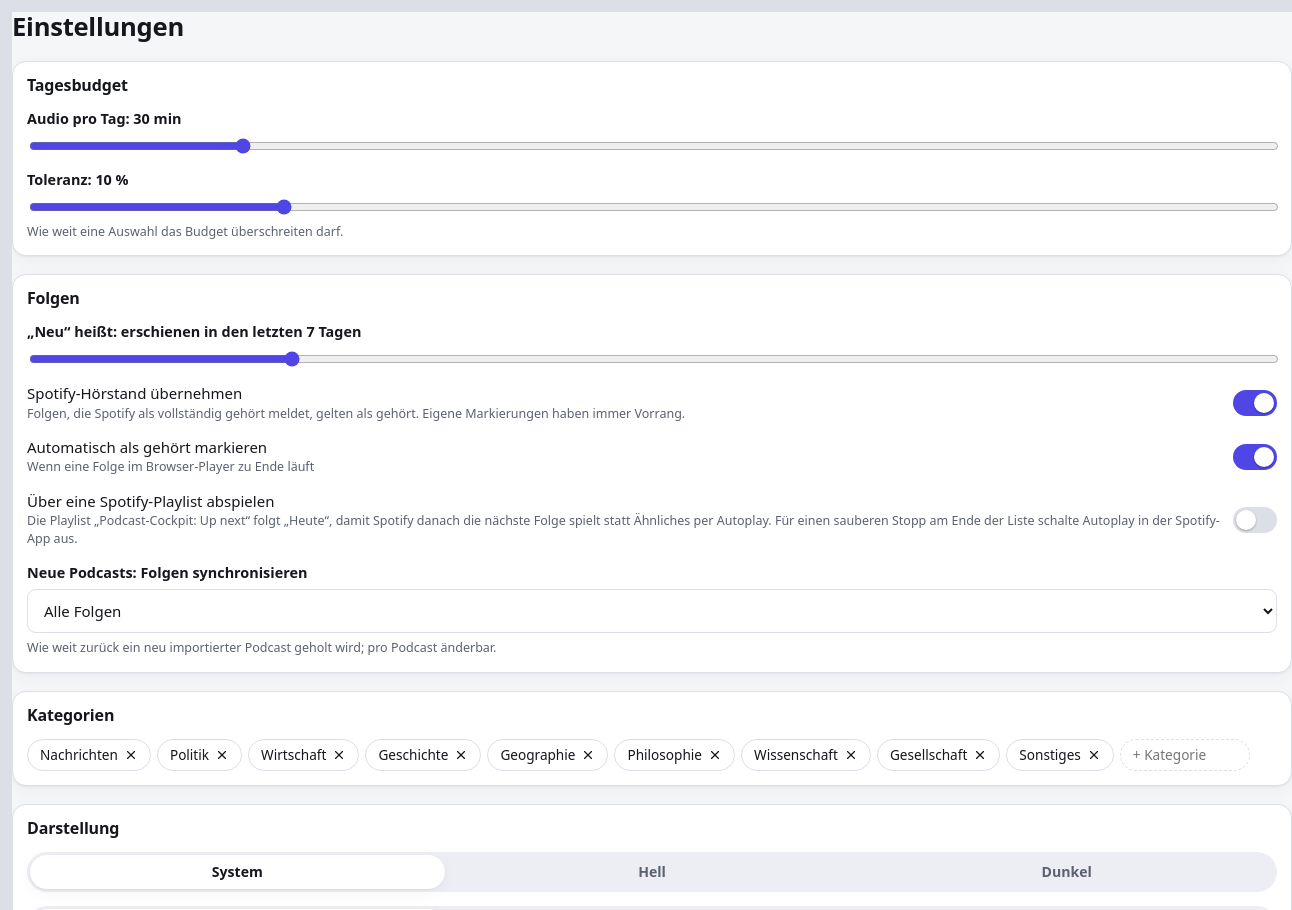
SettingsPage › shows the stored value again when saving a setting fails
What coordinates should you click on to do the following:
click the checkbox labelled "Automatisch als gehört markieren"
I would click on:
 (147, 447)
Its box is [27, 437, 1277, 477].
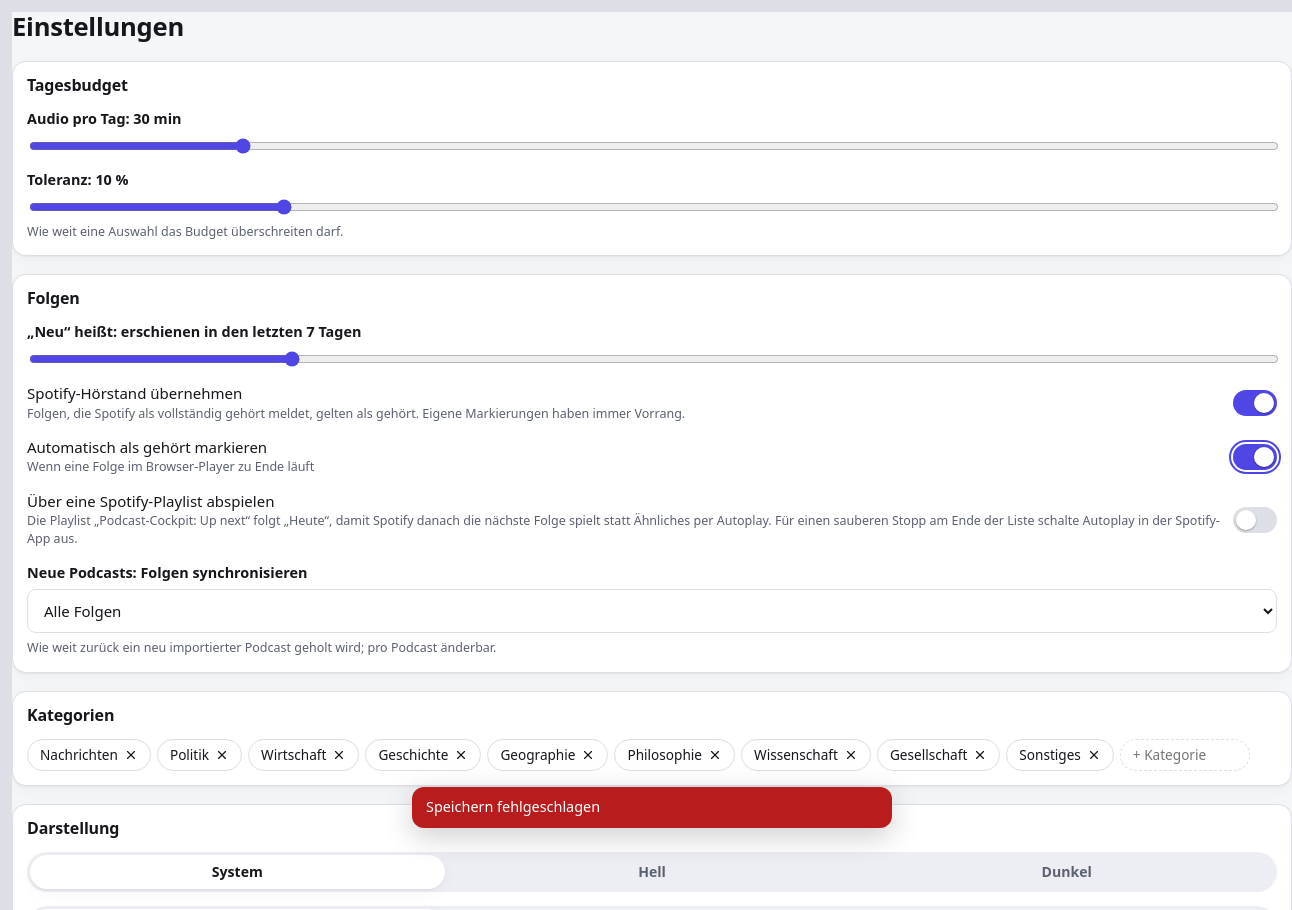
Check: the text "Speichern fehlgeschlagen" is shown, box [426, 797, 600, 816]
